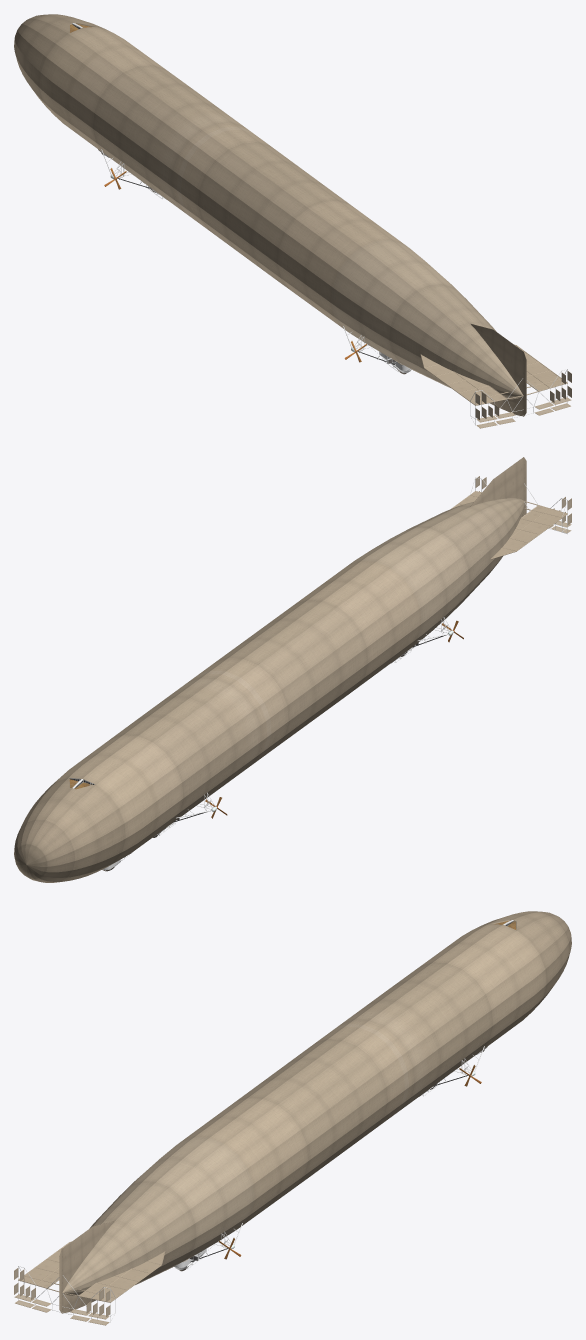
3 renders of one model, top to bottom at view 1: azimuth 30°, elevation 25°; view 2: azimuth 150°, elevation 25°; view 3: azimuth 330°, elevation 25°, orthographic.
Visible parts, largest first — view 1: LZ_18_Main; view 2: LZ_18_Main; view 3: LZ_18_Main.
Part boxes in pixels (x1,y1,x2,y2): LZ_18_Main: (14,14,567,425); LZ_18_Main: (14,457,567,882); LZ_18_Main: (18,911,571,1322).
Bounding box in the file's own units: 22.52 × 19.8 × 158.
